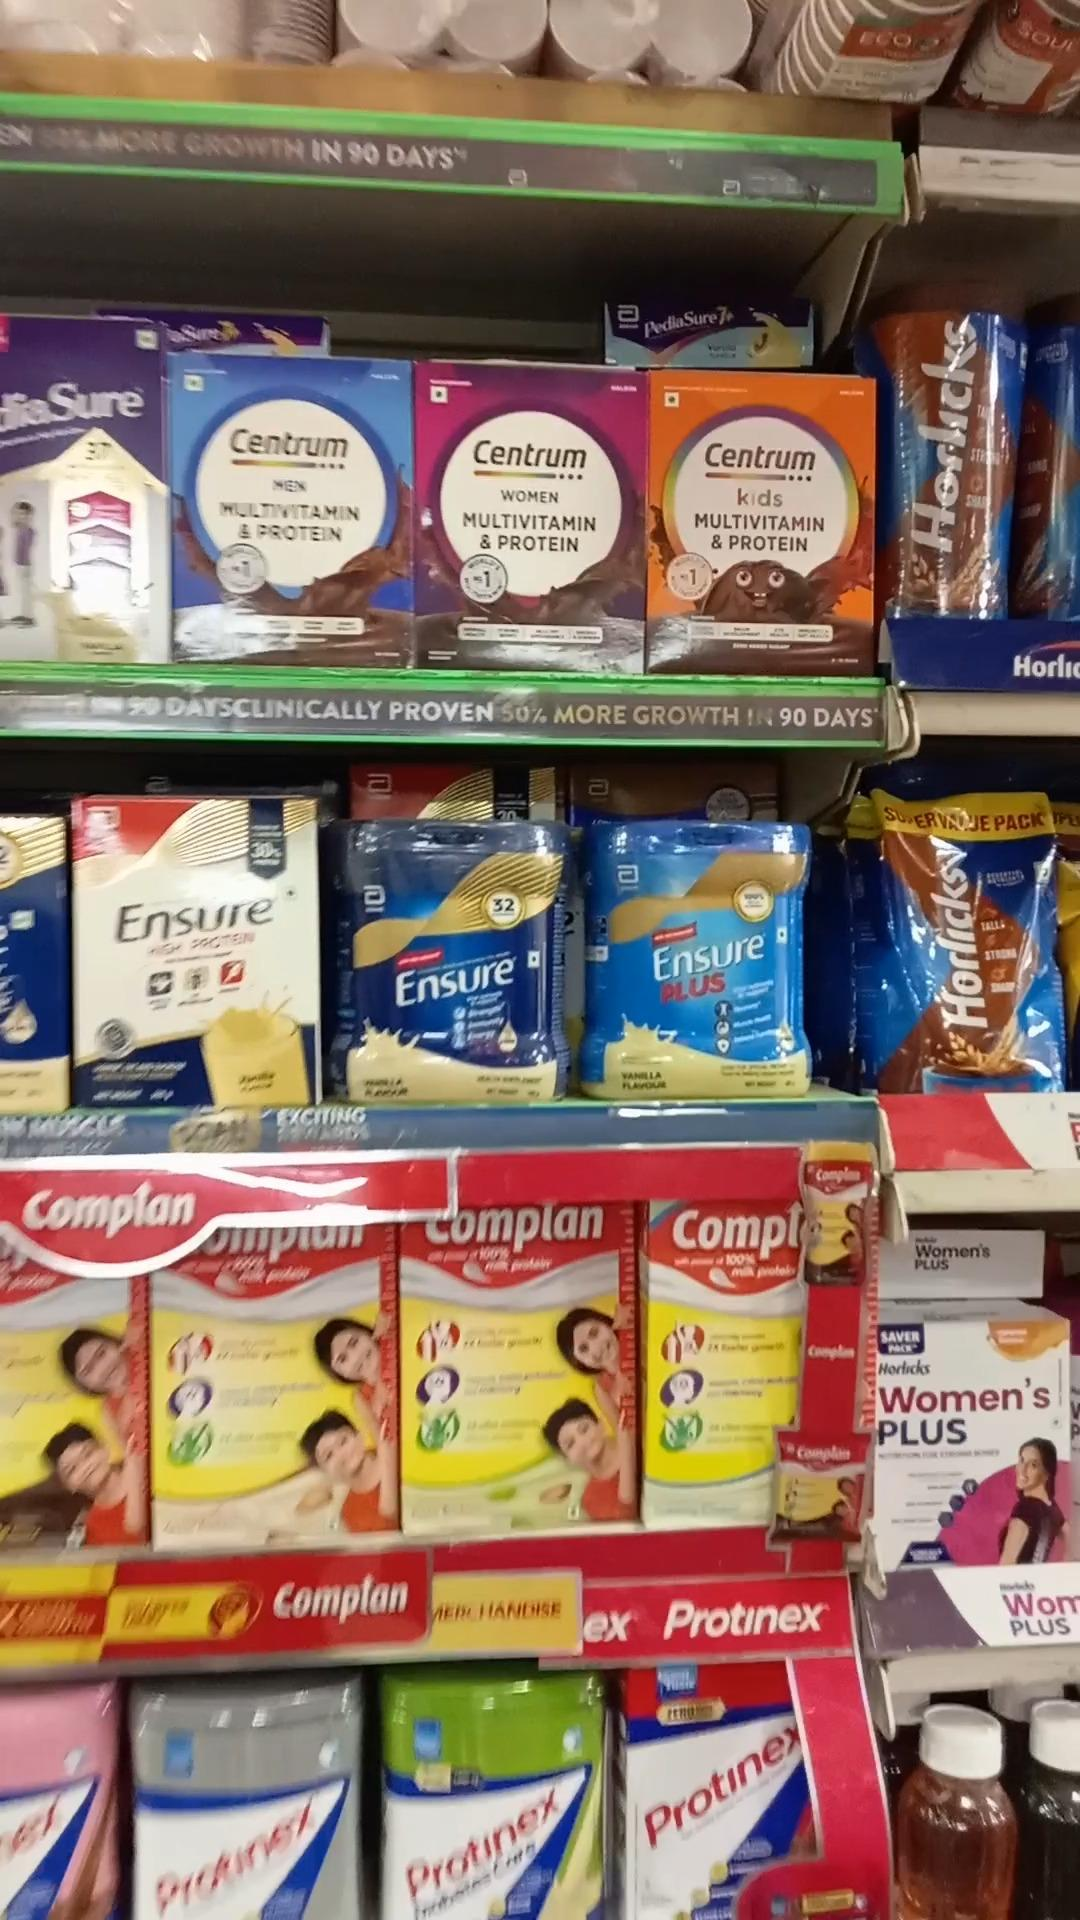COMPLAN_CREAMY_CLASSIC_500_G_PACK: (650, 1192, 800, 1528)
COMPLAN_KESAR_BADAM_500_GMS_PACK: (149, 1222, 402, 1553)
COMPLAN_PISTA_BADAM_500_GMS_PACK: (407, 1211, 636, 1536)
ENSURE_VANILLA_400_G_PACK: (74, 796, 326, 1109)
HORLICK_CHOCOLATE_1_KG_JAR: (878, 278, 1015, 604)
HORLICK_CHOCOLATE_750_G_POUCH: (872, 778, 1055, 1098)
PROTINEX_ORIGINAL_400_G_JAR: (128, 1685, 360, 1920)
